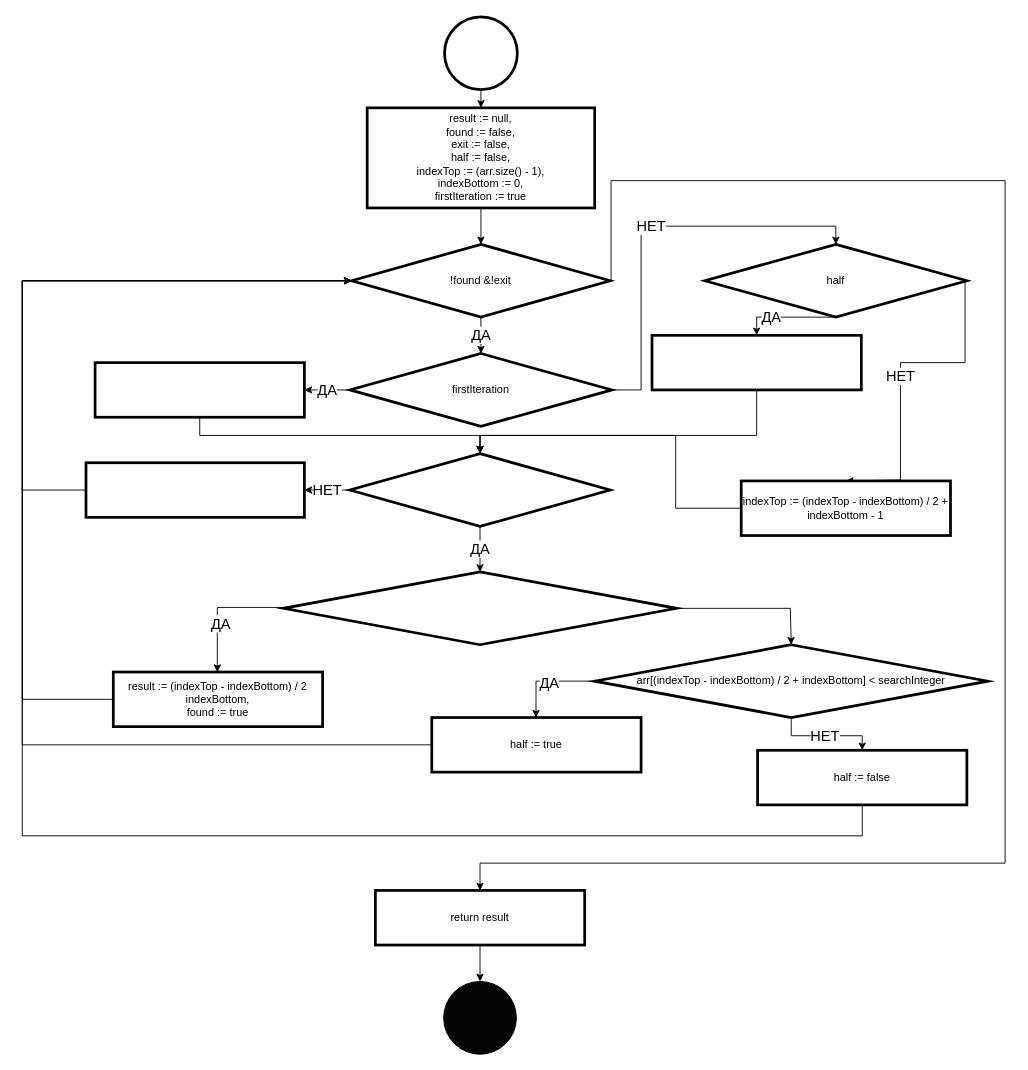
Some shapes in this 1028 by 1070 pixel diagram are drawn without their labels. The centre of each missing label's shape, as x and y in pixels:
(indexTop - indexBottom) >= 0: [479,489]
arr[(indexTop - indexBottom) / 2 + indexBottom] == searchInteger: [479,608]
exit := true: [194,489]
firstIteration := false: [199,389]
indexBottom := (indexTop - indexBottom) / 2 + indexBottom + 1: [756,362]
